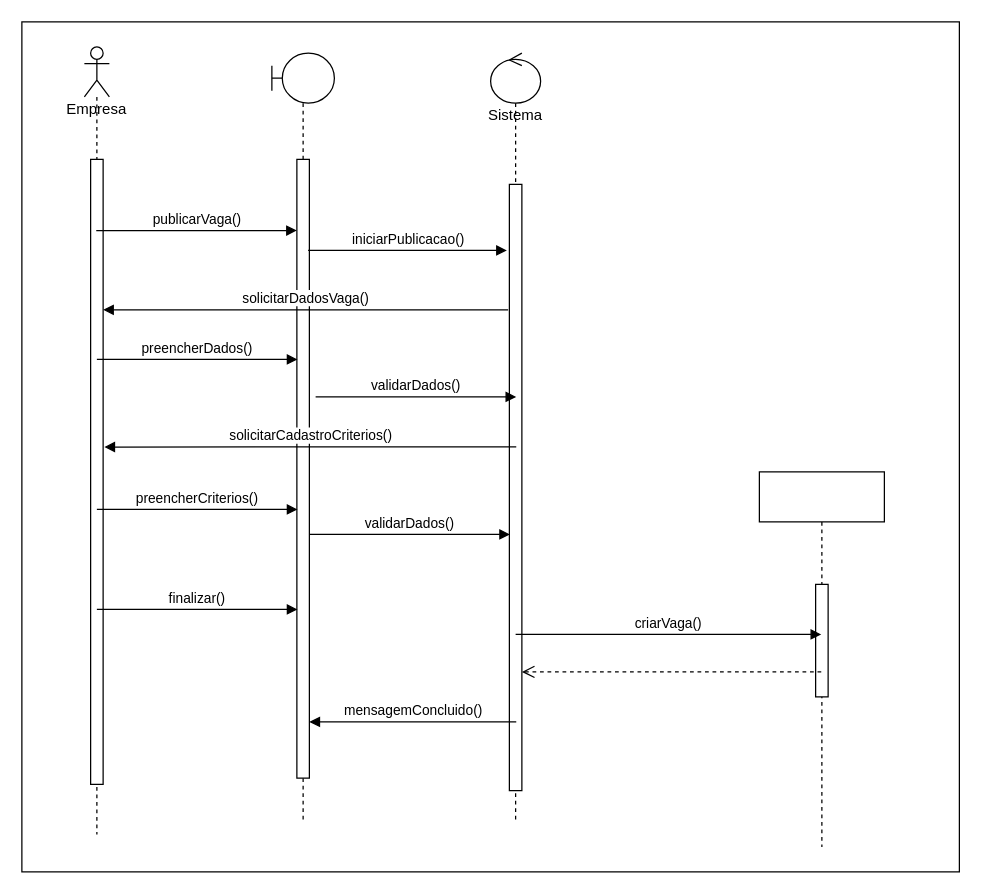
Some shapes in this 981 by 894 pixel diagram are drawn without their labels. The shapes that lost their labels are listed below. From the top down, each one's box as (x1, y1, x2, y2) in pixels, then its label:
(271, 52, 334, 822): UI
(758, 471, 884, 847): :Vaga
